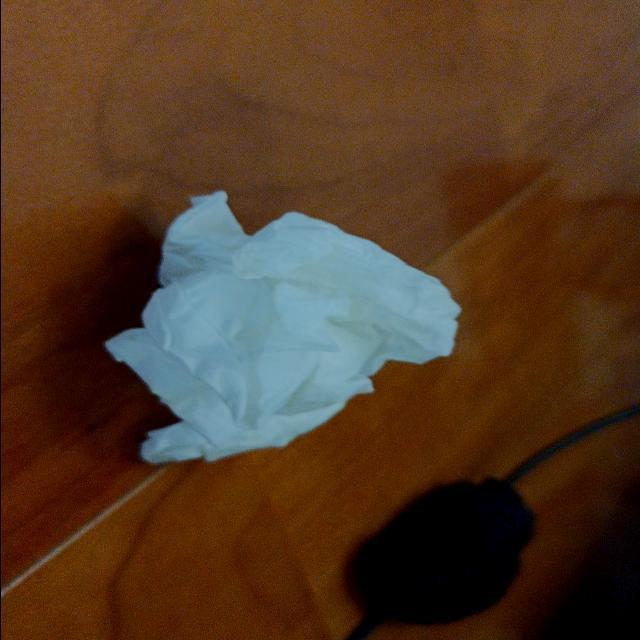Paper: (117, 184, 429, 434)
